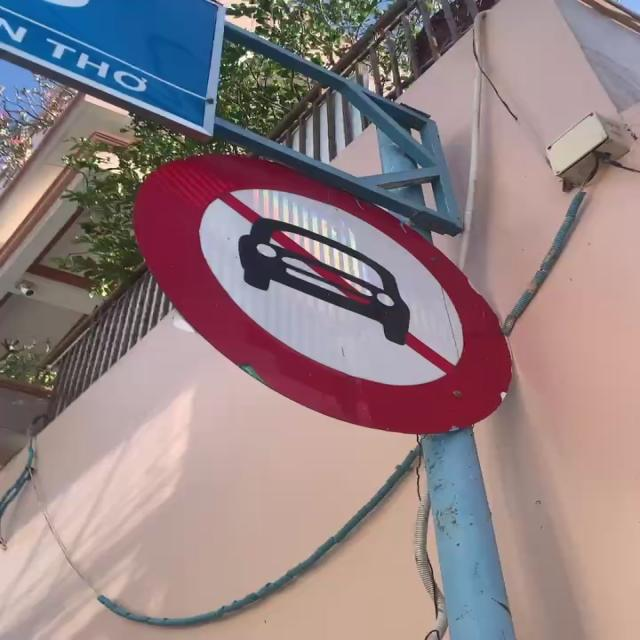Cam_O_To: (128, 151, 517, 440)
